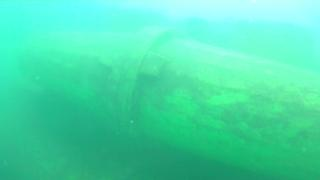pipe: (1, 23, 320, 180)
